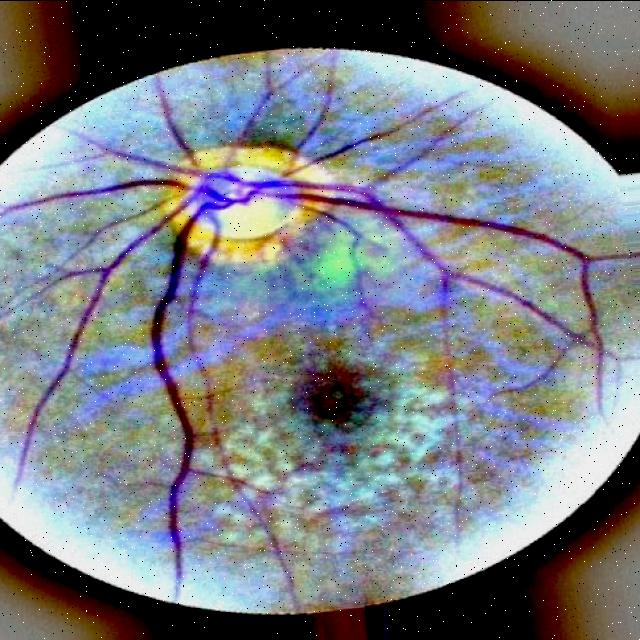Macula: (296, 366, 370, 426)
Nerves: (0, 77, 611, 599)
Optic Disk: (176, 167, 304, 258)
